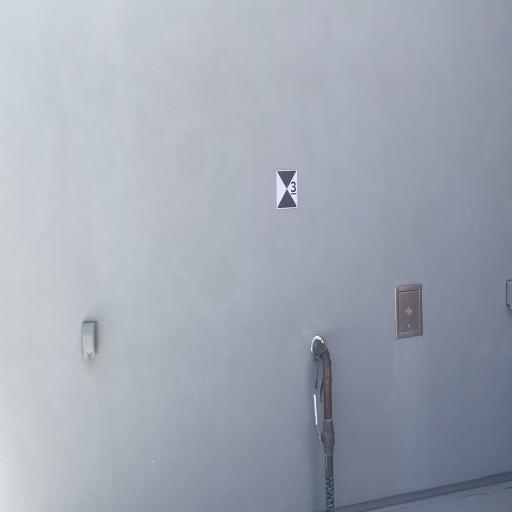target3: (276, 169, 297, 210)
